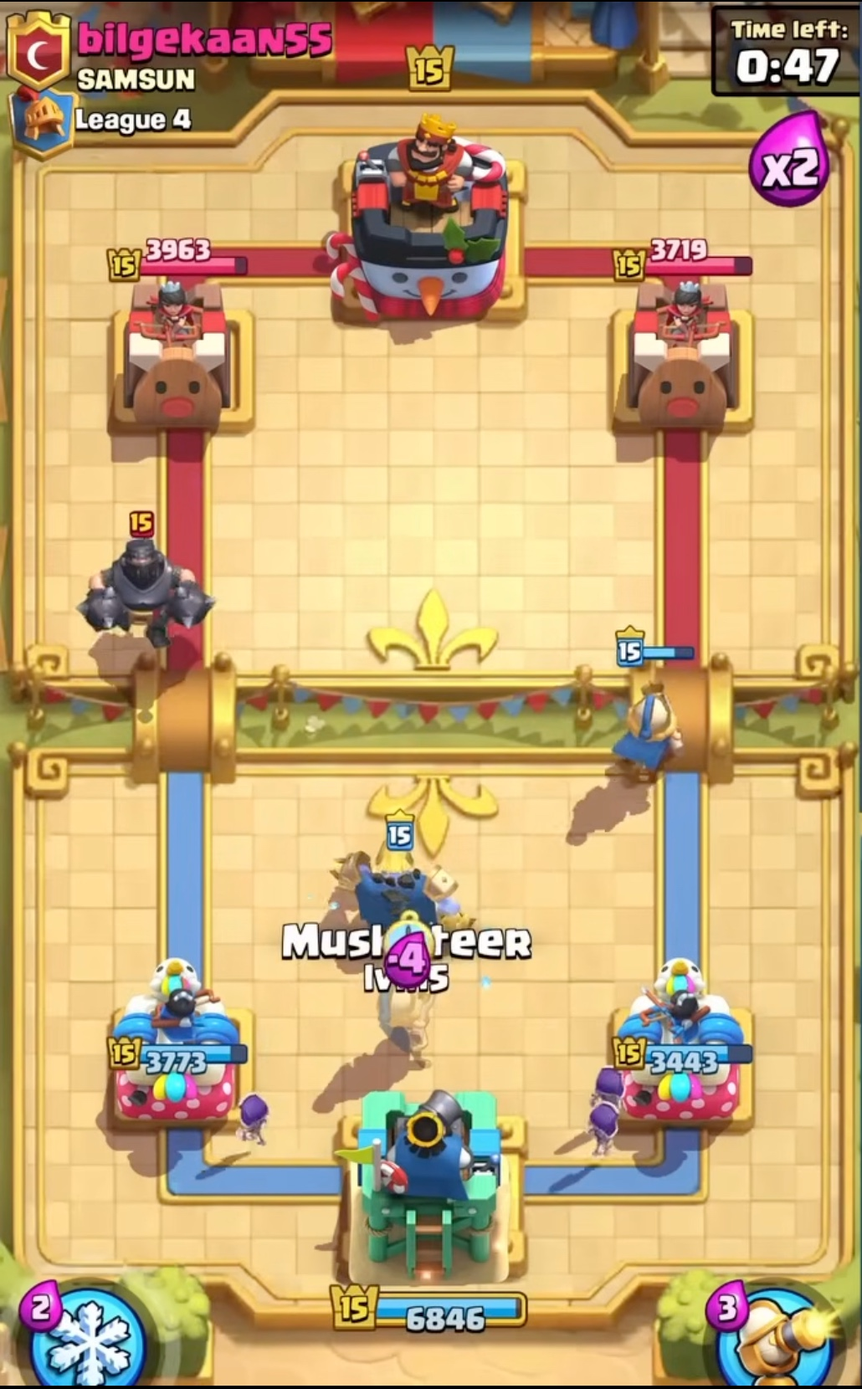evo-skeleton: (578, 1091, 626, 1162), (587, 1058, 635, 1115), (231, 1085, 275, 1146)
hero-ice-golem: (324, 809, 476, 964)
hero-musketeer: (593, 611, 699, 801)
